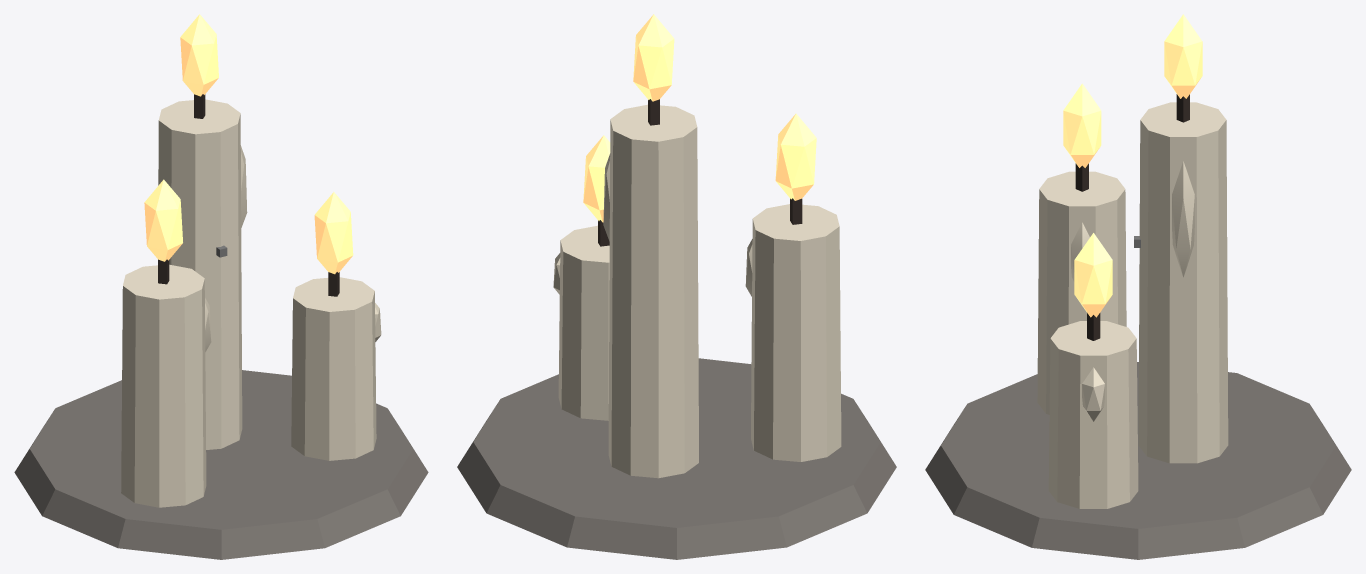
File: CandleTrio.fbx
The picture shows the model from 3 angles, left to right: view 1: azimuth 30°, elevation 25°; view 2: azimuth 150°, elevation 25°; view 3: azimuth 270°, elevation 25°; orthographic projection. The views are drawn at different scales.
Parts seen in each view (by area): view 1: CandleTrio_Wax, CandleTrio_Stone, CandleTrio_Glow, CandleTrio_Wick; view 2: CandleTrio_Wax, CandleTrio_Stone, CandleTrio_Glow, CandleTrio_Wick; view 3: CandleTrio_Wax, CandleTrio_Stone, CandleTrio_Glow, CandleTrio_Wick.
Part boxes in pixels (left/top/right/bottom): CandleTrio_Wax: left=121, top=99, right=381, bottom=507; CandleTrio_Stone: left=14, top=370, right=428, bottom=559; CandleTrio_Glow: left=144, top=14, right=353, bottom=274; CandleTrio_Wick: left=158, top=94, right=339, bottom=296; CandleTrio_Wax: left=553, top=104, right=841, bottom=478; CandleTrio_Stone: left=457, top=358, right=896, bottom=559; CandleTrio_Glow: left=583, top=14, right=816, bottom=222; CandleTrio_Wick: left=598, top=99, right=802, bottom=246; CandleTrio_Wax: left=1037, top=102, right=1228, bottom=508; CandleTrio_Stone: left=925, top=362, right=1351, bottom=559; CandleTrio_Glow: left=1063, top=14, right=1202, bottom=317; CandleTrio_Wick: left=1075, top=94, right=1189, bottom=340.
Size of the model in its own units: 190 by 224 by 190.
